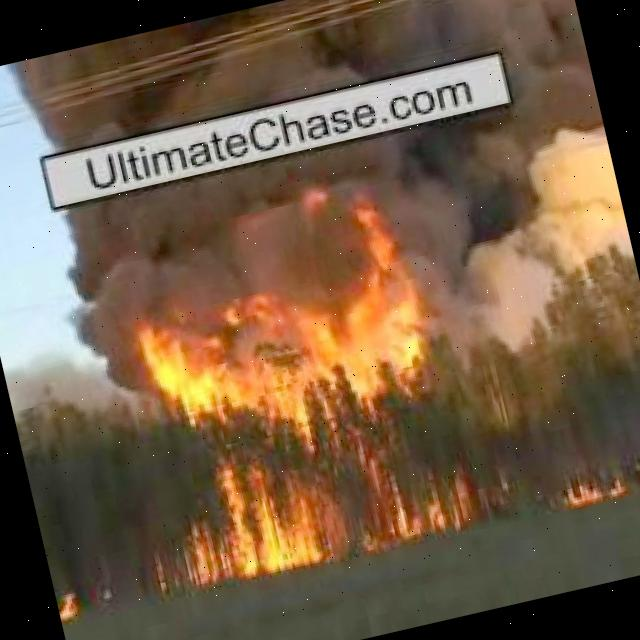fire: (130, 242, 474, 589), (556, 469, 634, 512), (54, 580, 82, 630)
